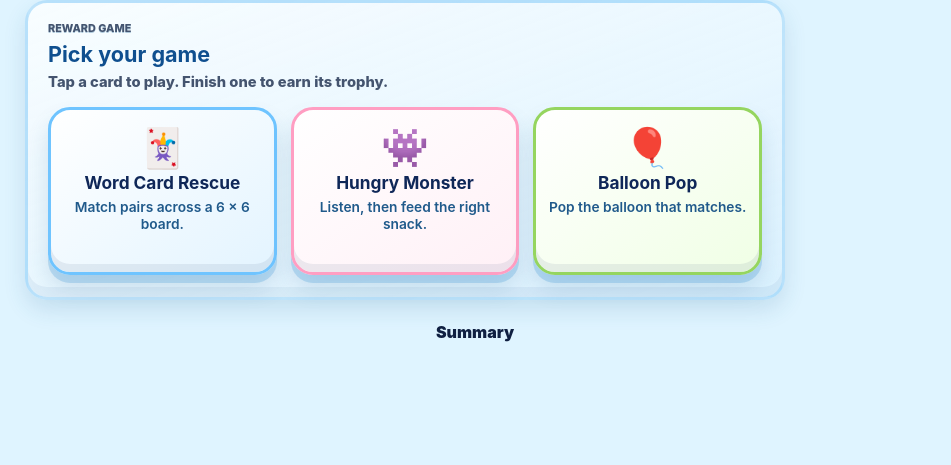
Test case: reward clear game › starts the picked game and lets the kid return to the chooser
Step 1. Click the button with class "reward-game-chooser-card" that starts with "Balloon Pop" → x=648, y=191, box [533,107,762,275]
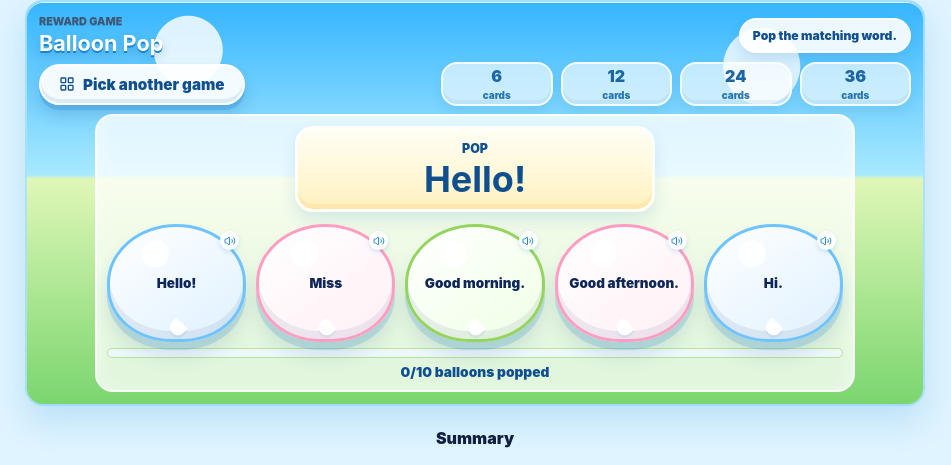
expect the element with class "reward-game-chooser" is gone: met
expect the heading "Balloon Pop" is shown: met, box [39,30,163,56]
expect the button with class "reward-balloon" showing "Hello!" is shown: met, box [107,224,246,342]
Step 2. Click the button with class "reward-change-game" → x=142, y=84, box [39,64,244,104]
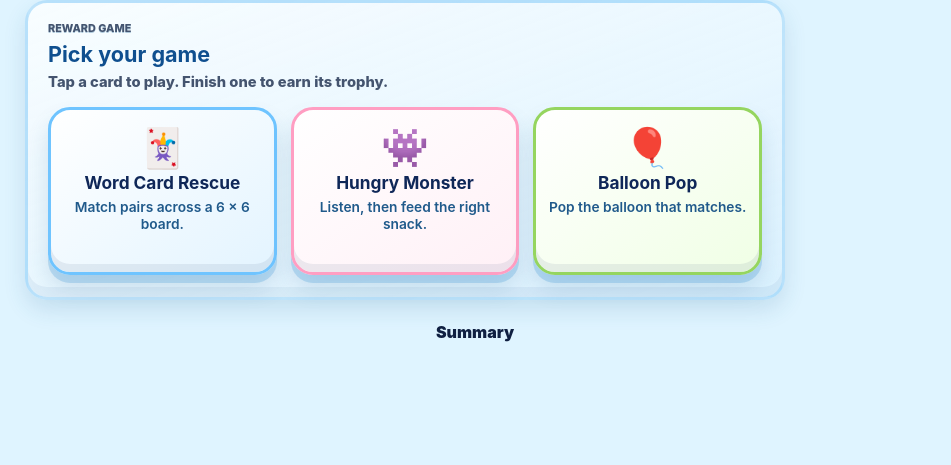
expect the element with class "reward-game-chooser" is shown: met, box [25,0,785,300]
expect the button with class "reward-balloon" is gone: met
